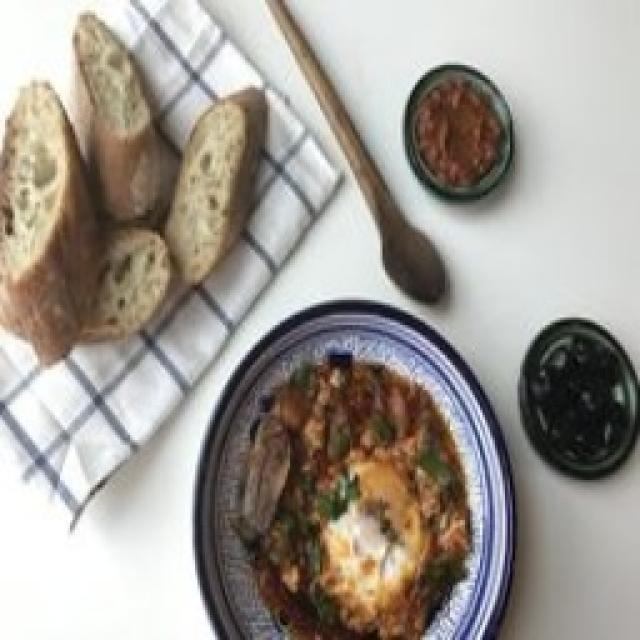Harissa: (405, 65, 512, 199)
